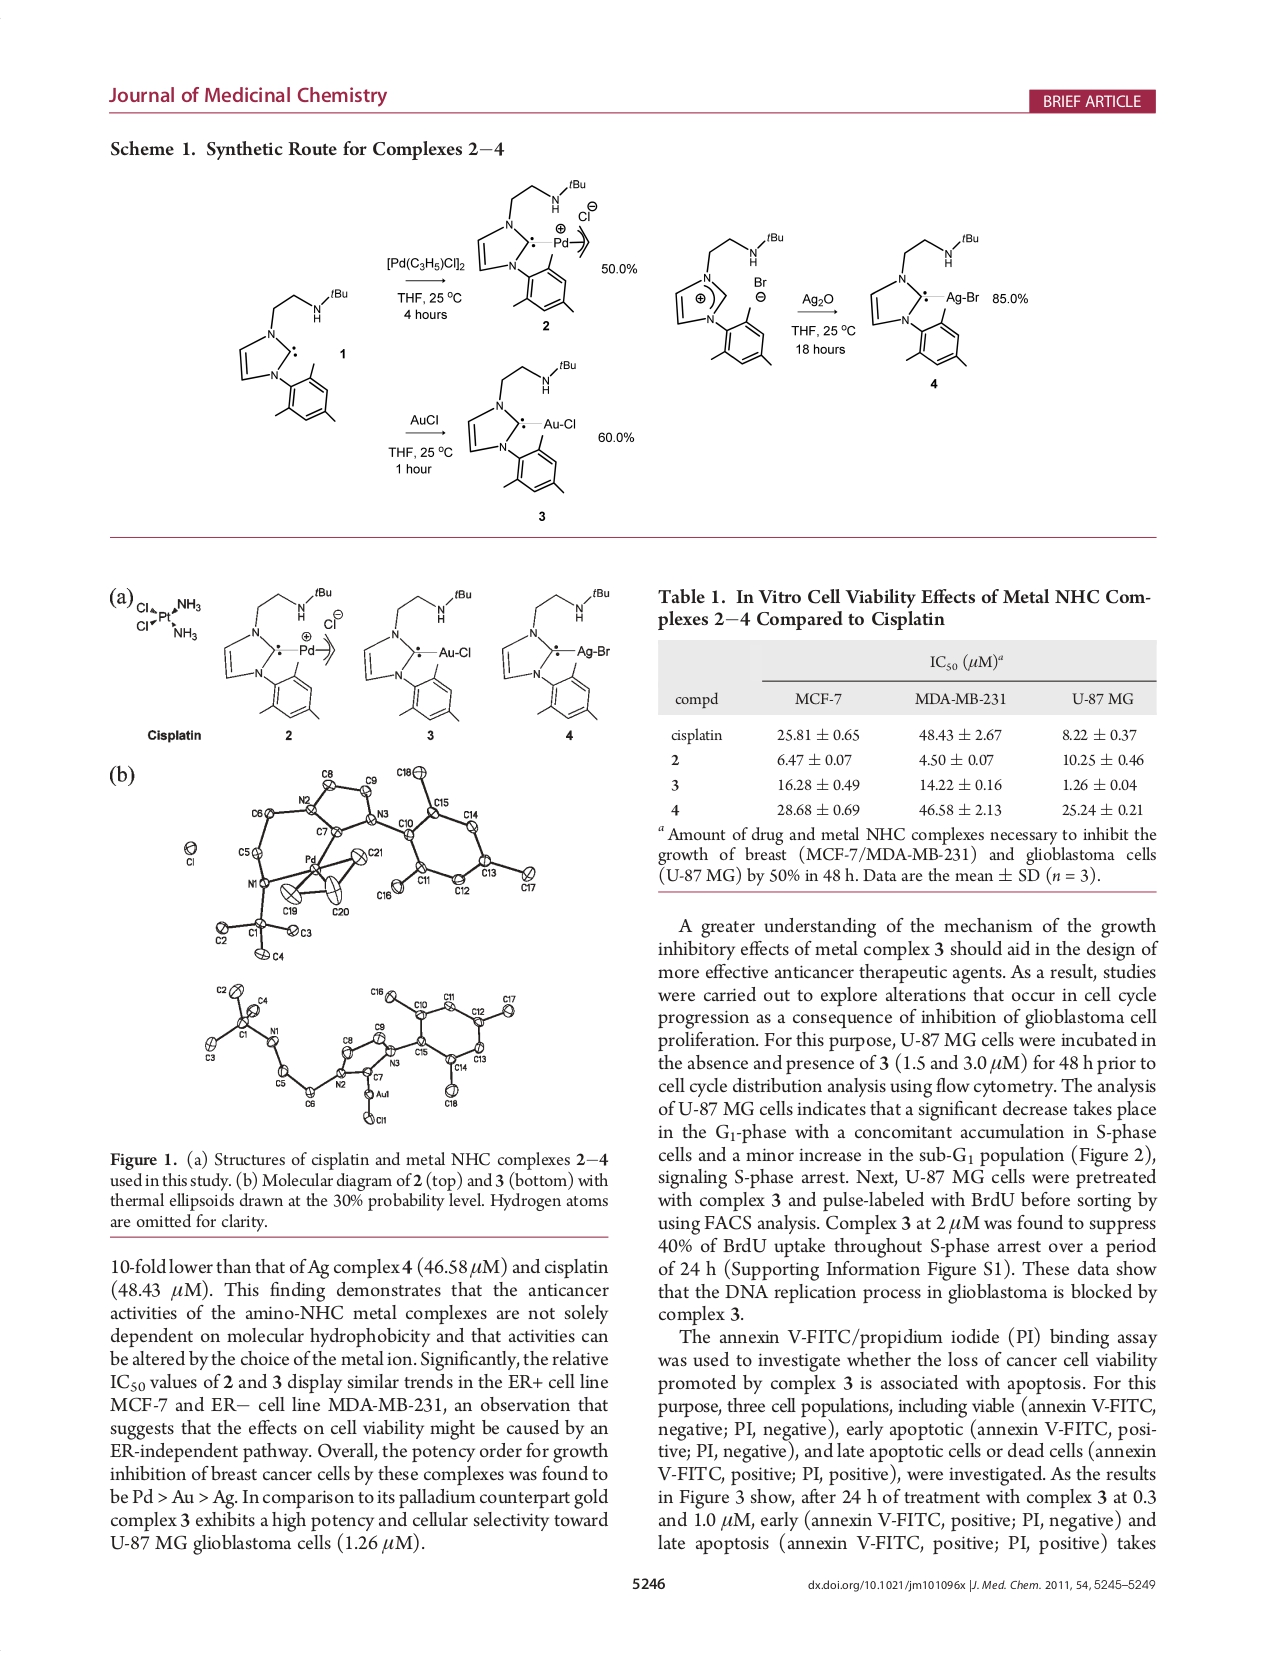exist_molecular: (864, 227, 987, 372), (219, 585, 347, 723), (473, 176, 597, 315), (359, 586, 481, 727), (231, 282, 350, 424), (465, 356, 581, 497), (670, 231, 786, 368), (499, 585, 613, 722)
